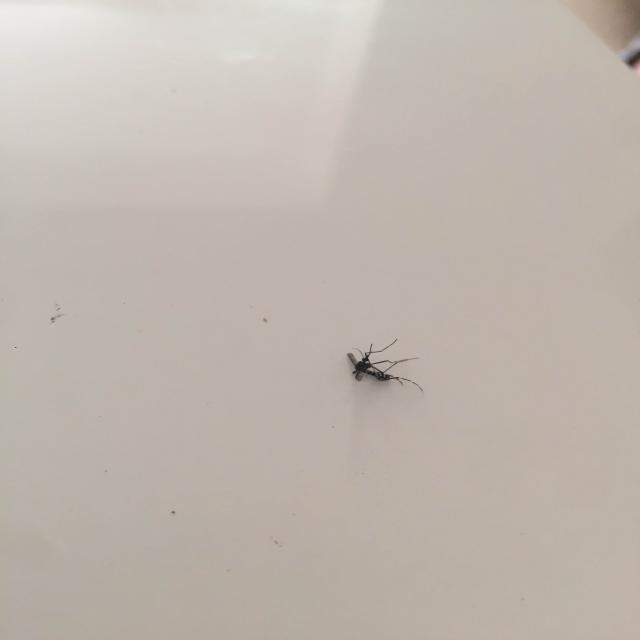albopictus: (337, 331, 428, 395)
